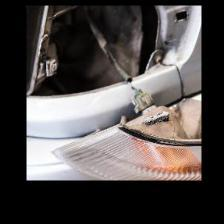head_lamp: (29, 6, 201, 143)
